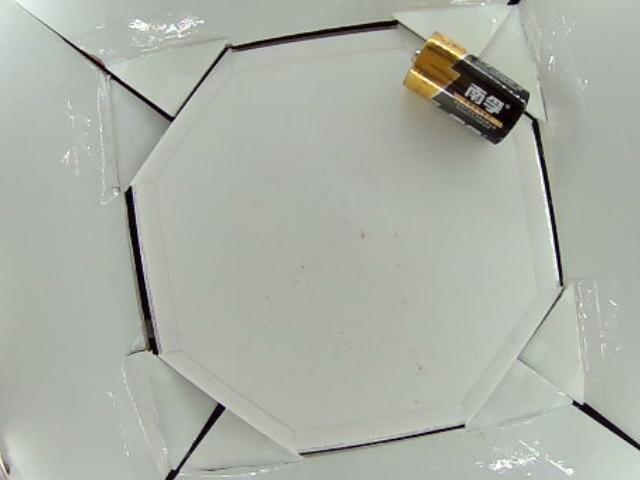Battery: (403, 31, 532, 146)
